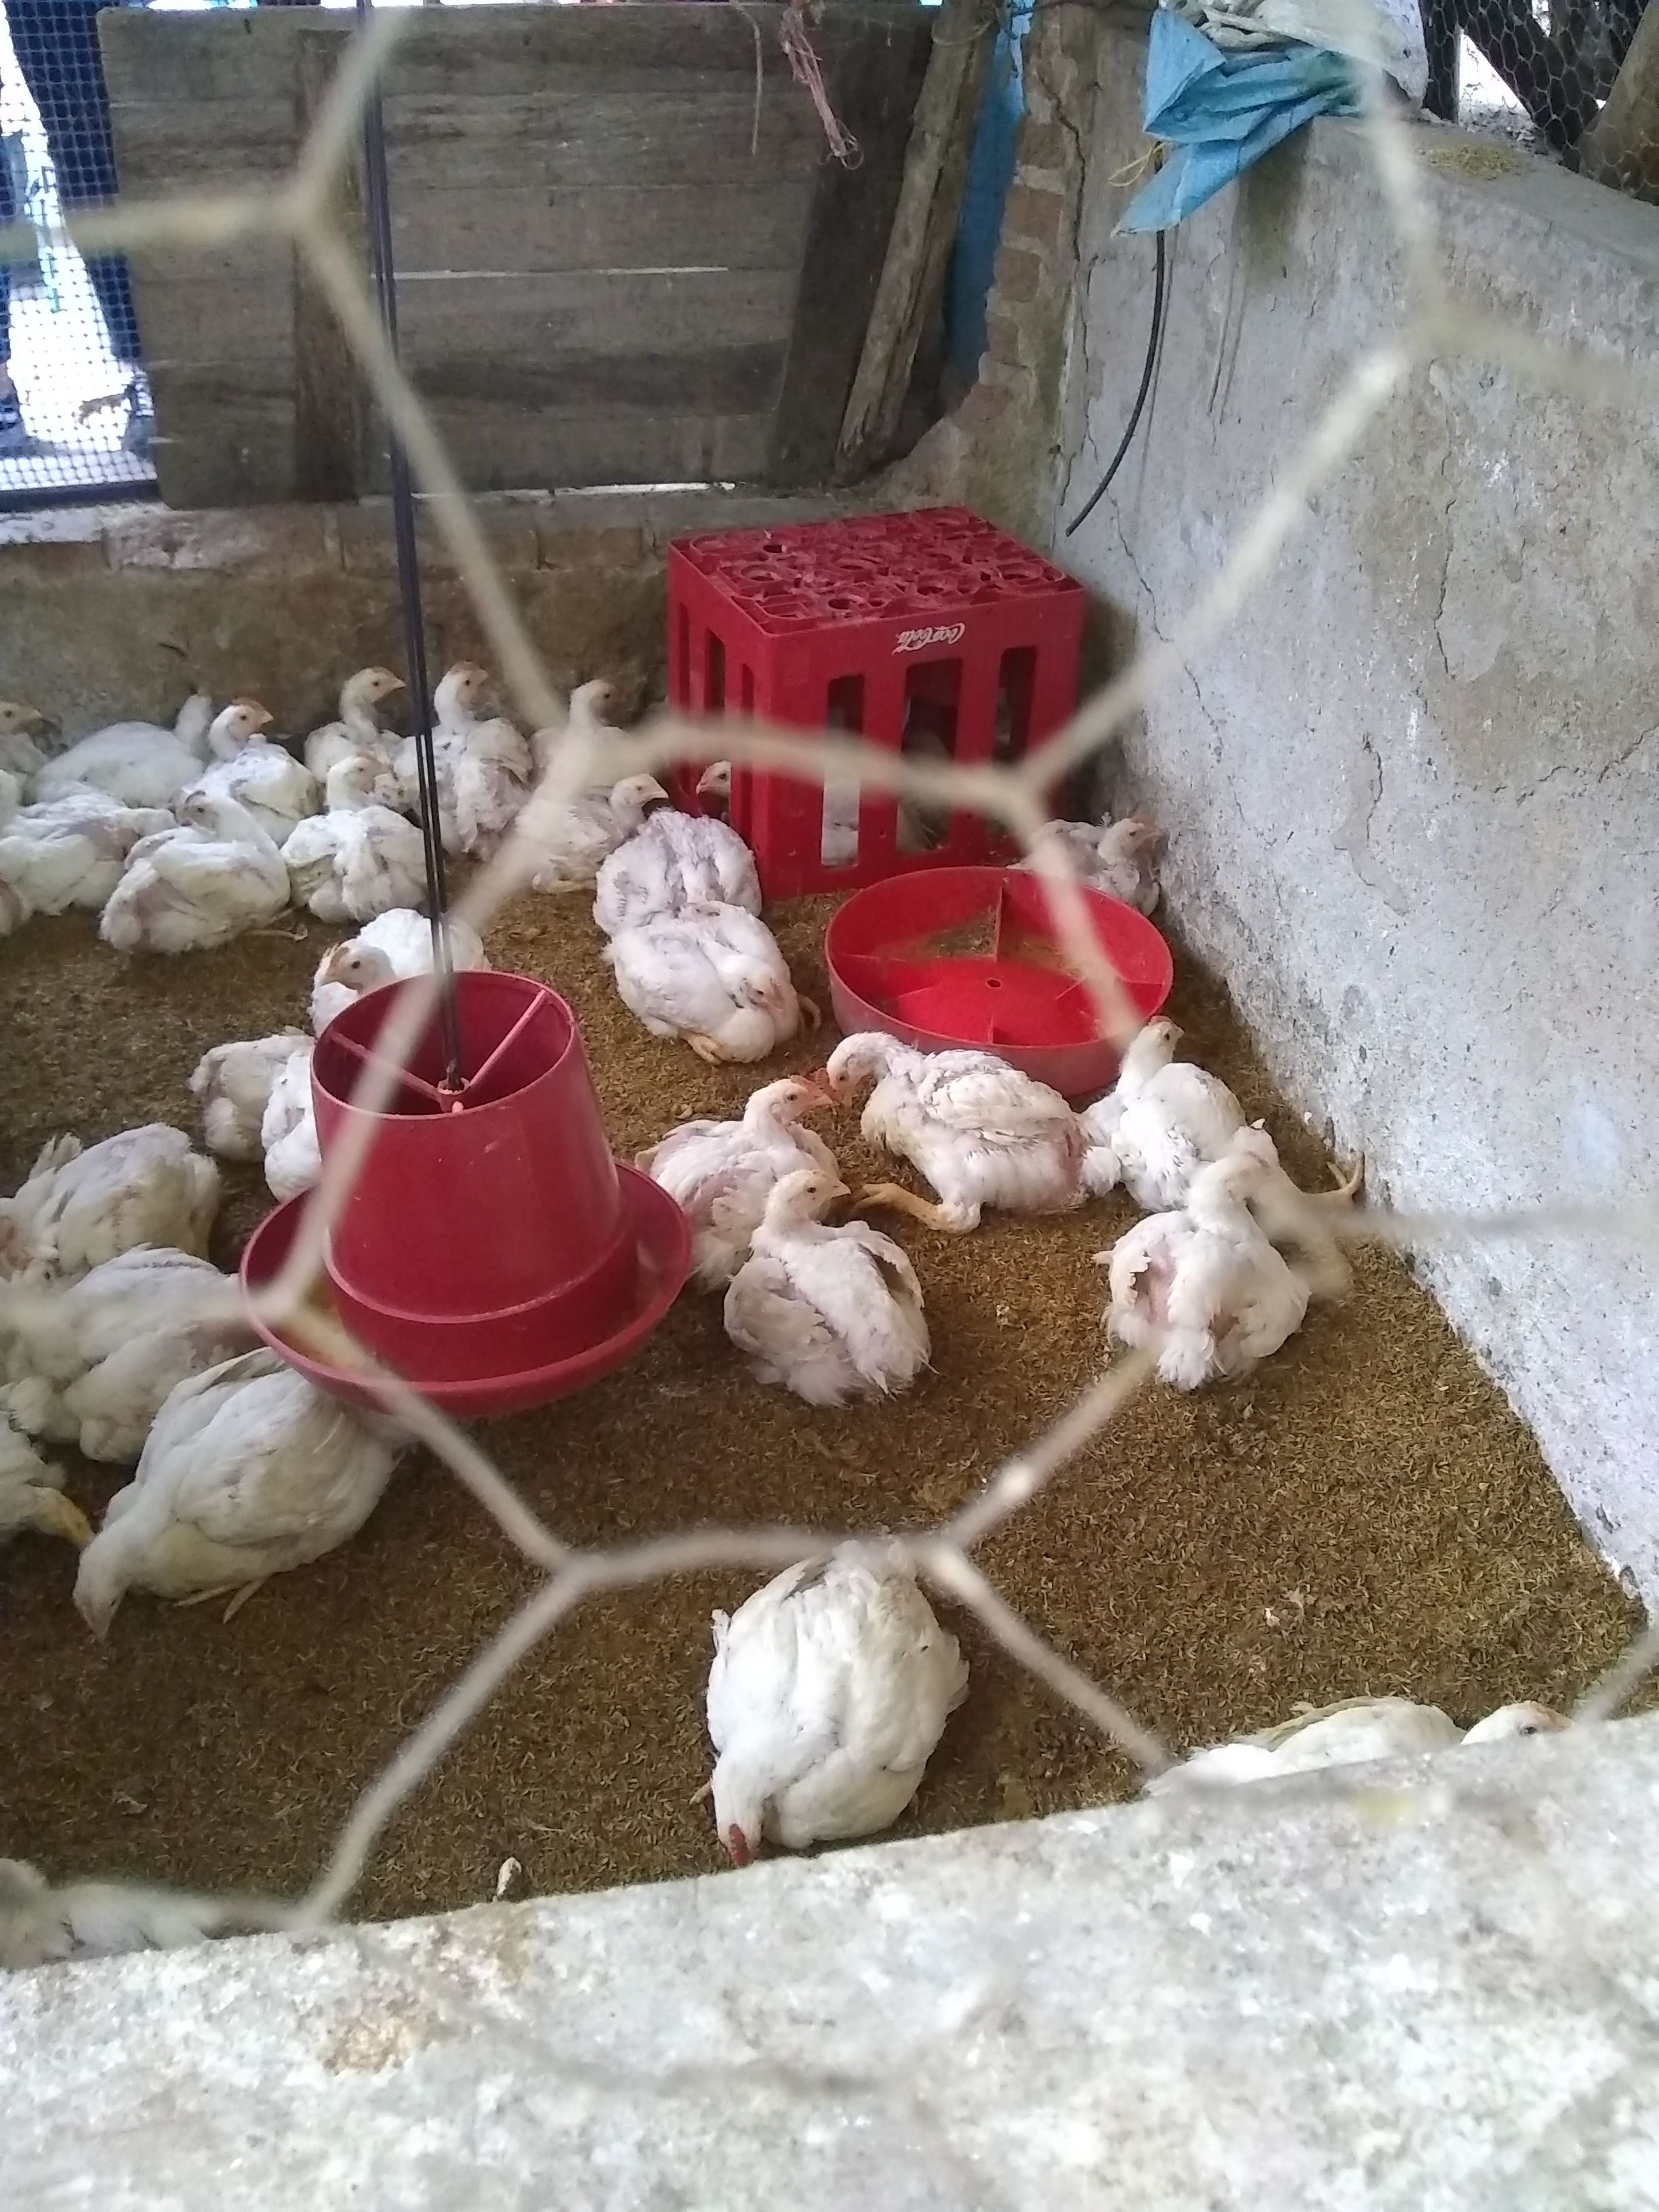Pollos: (70, 1353, 441, 1667), (699, 1534, 978, 1879), (1119, 1651, 1635, 1834), (821, 995, 1094, 1242), (706, 1167, 931, 1407), (1110, 1150, 1310, 1399), (0, 1111, 253, 1268), (1096, 993, 1249, 1188), (1011, 759, 1190, 920), (624, 897, 803, 1049), (305, 900, 477, 1040), (289, 752, 448, 904), (667, 1045, 821, 1191), (153, 780, 289, 932), (188, 1026, 342, 1136), (619, 820, 767, 928), (418, 629, 532, 759), (0, 789, 89, 927), (159, 657, 227, 758), (561, 636, 636, 723), (0, 667, 56, 770), (221, 681, 277, 777), (599, 747, 671, 820), (328, 637, 403, 700), (694, 752, 756, 820), (281, 711, 378, 754)
